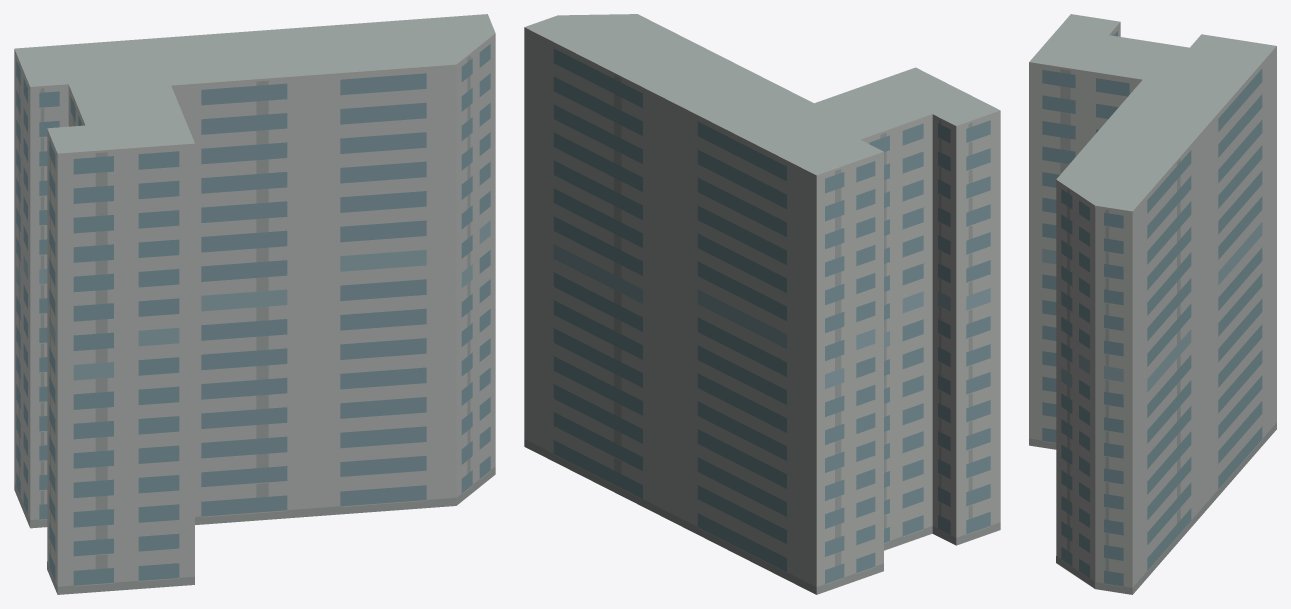
The model's file is residential-ca2711e9-bd41-4e3c-a536-841c4ed5c818.glb.
3 renders of one model, left to right at view 1: azimuth 30°, elevation 25°; view 2: azimuth 150°, elevation 25°; view 3: azimuth 270°, elevation 25°, orthographic. The views are drawn at different scales.
Visible parts, largest first — view 1: residential-ca2711e9-bd41-4e3c-a536-841c4ed5c818.tmp; view 2: residential-ca2711e9-bd41-4e3c-a536-841c4ed5c818.tmp; view 3: residential-ca2711e9-bd41-4e3c-a536-841c4ed5c818.tmp.
Boxes of the visible parts, left/top/right/bottom form: residential-ca2711e9-bd41-4e3c-a536-841c4ed5c818.tmp: left=14, top=14, right=495, bottom=594; residential-ca2711e9-bd41-4e3c-a536-841c4ed5c818.tmp: left=524, top=14, right=1000, bottom=594; residential-ca2711e9-bd41-4e3c-a536-841c4ed5c818.tmp: left=1029, top=14, right=1276, bottom=594.
Bounding box in the file's own units: 51.92 × 47 × 27.53.
